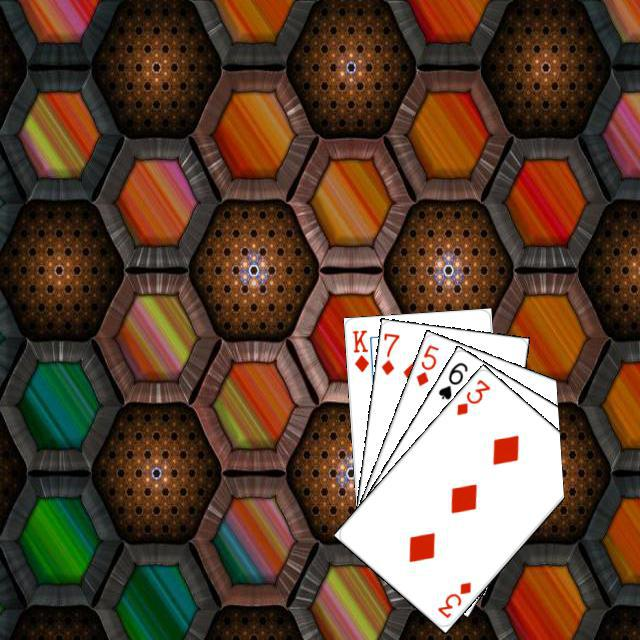3d: (451, 374, 492, 417), (432, 577, 473, 620)
5d: (411, 340, 441, 388)
6s: (433, 357, 470, 401)
7d: (376, 328, 401, 377)
Kd: (348, 325, 370, 374)
